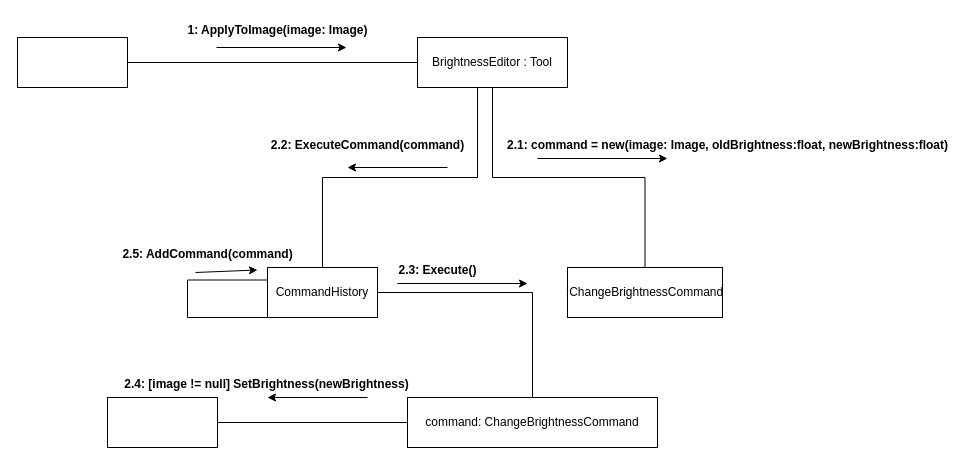
This 965x465 diagram has some shape labels left out. Each missing label, with the centre of its shape:
:Editor: point 72,62
image: Image: point 162,422
